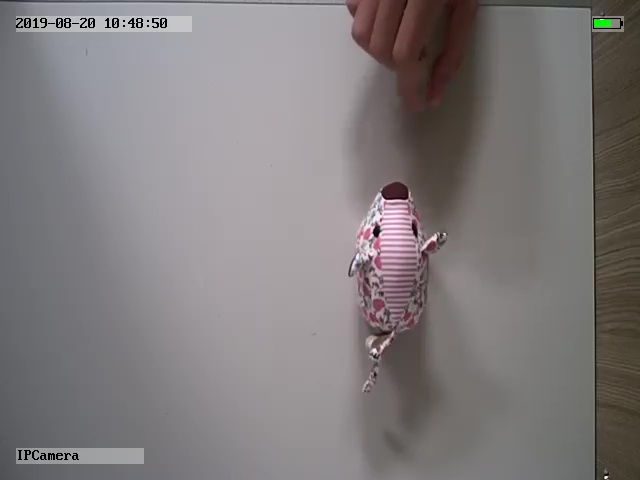pig: (347, 182, 449, 395)
